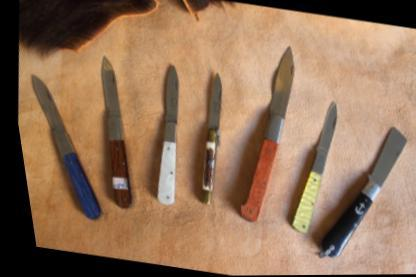knife: (242, 34, 308, 148), (14, 66, 86, 160), (82, 46, 140, 150), (141, 56, 190, 150), (295, 91, 346, 174), (186, 66, 231, 150)
